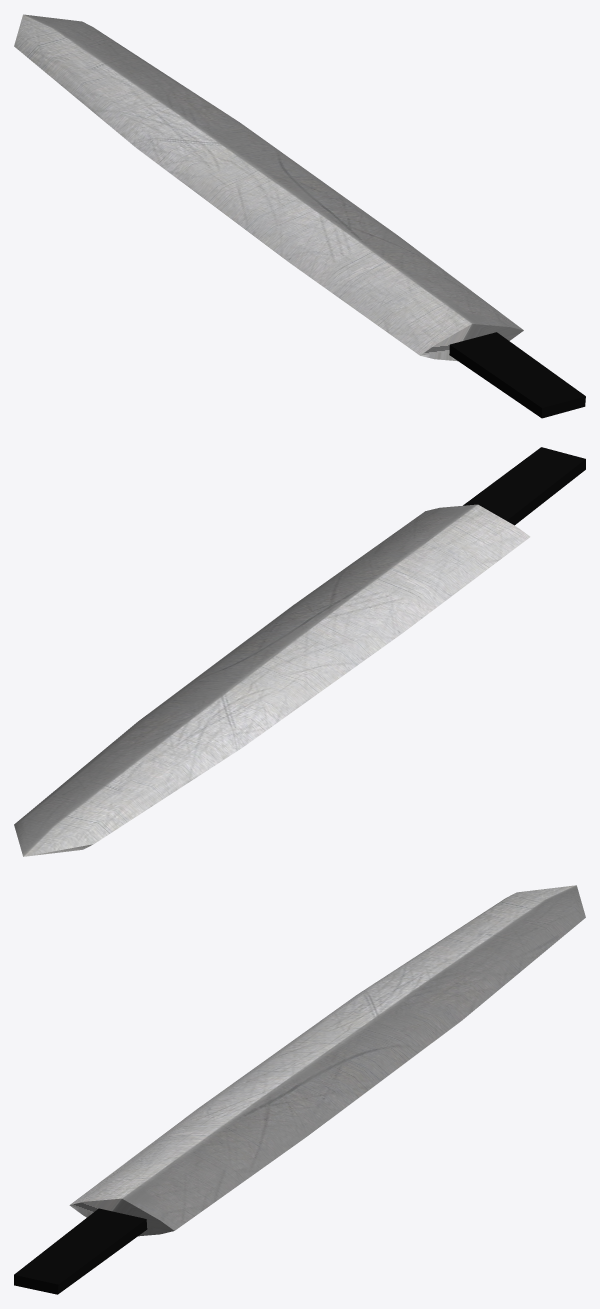
The model's file is PreSword11.fbx.
The picture shows the model from 3 angles, top to bottom: view 1: azimuth 30°, elevation 25°; view 2: azimuth 150°, elevation 25°; view 3: azimuth 330°, elevation 25°; orthographic projection.
Parts seen in each view (by area): view 1: Swords-OBJ; view 2: Swords-OBJ; view 3: Swords-OBJ.
Part boxes in pixels (bbox=[...]): Swords-OBJ: bbox=[14, 14, 585, 418]; Swords-OBJ: bbox=[14, 447, 585, 856]; Swords-OBJ: bbox=[14, 885, 585, 1294].
Bounding box in the file's own units: 329 × 111 × 2795.
